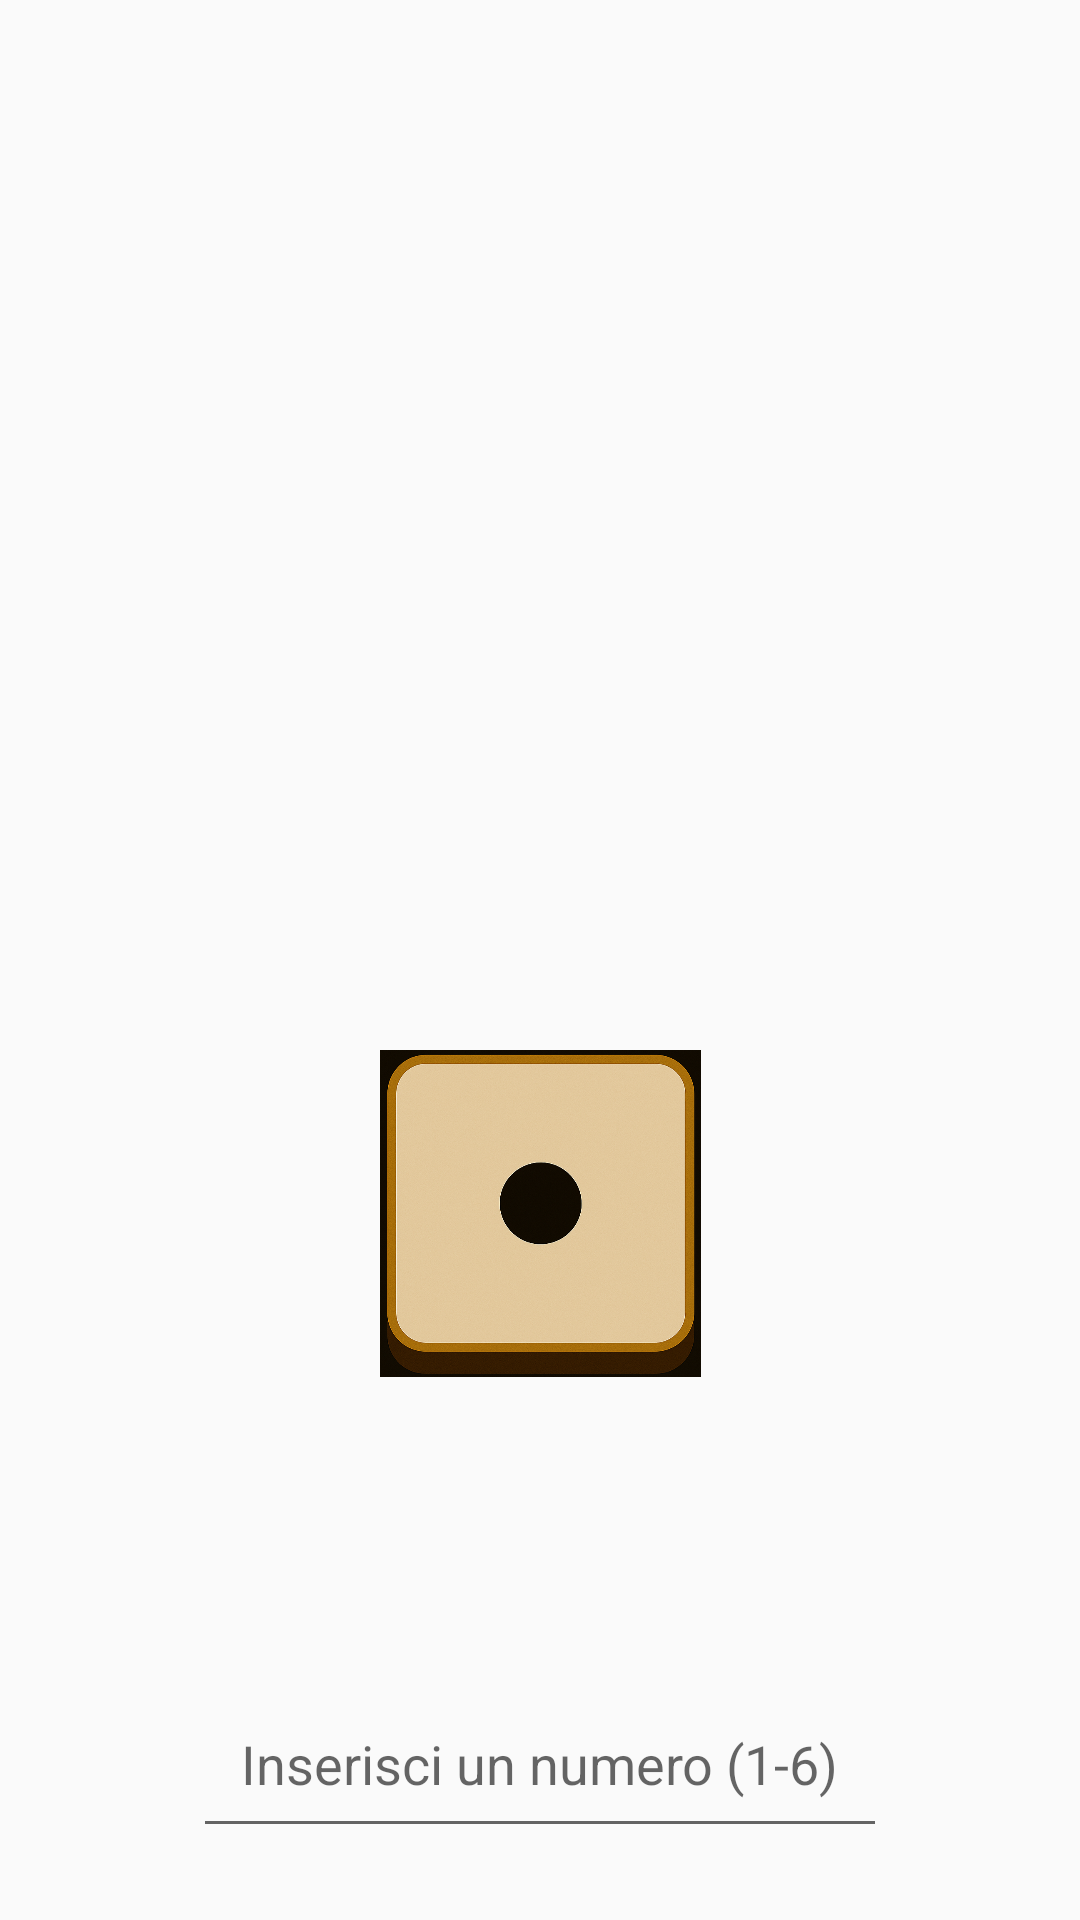

Named icons in this screenshot (1080 × 1920) and their centers, [x,y]:
dice face: [540,1213]
